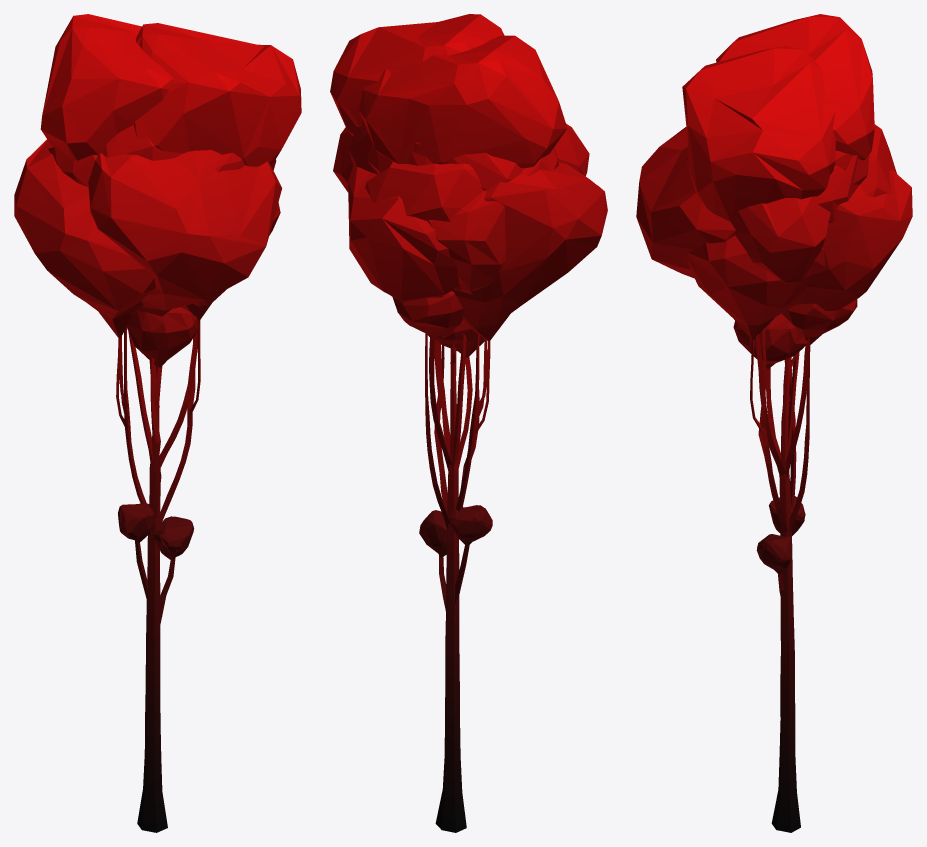
Rendered from TreeBirch05.fbx.
3 renders of one model, left to right at view 1: azimuth 30°, elevation 25°; view 2: azimuth 150°, elevation 25°; view 3: azimuth 270°, elevation 25°, orthographic. The views are drawn at different scales.
Parts seen in each view (by area): view 1: TreeBirch05_LOD0; view 2: TreeBirch05_LOD0; view 3: TreeBirch05_LOD0.
Part boxes in pixels (x1,y1,x2,y2): TreeBirch05_LOD0: (14, 14, 301, 832); TreeBirch05_LOD0: (330, 14, 607, 832); TreeBirch05_LOD0: (636, 14, 912, 832).
Size of what is drawn, in the model's own units: 432 by 1294 by 413.
